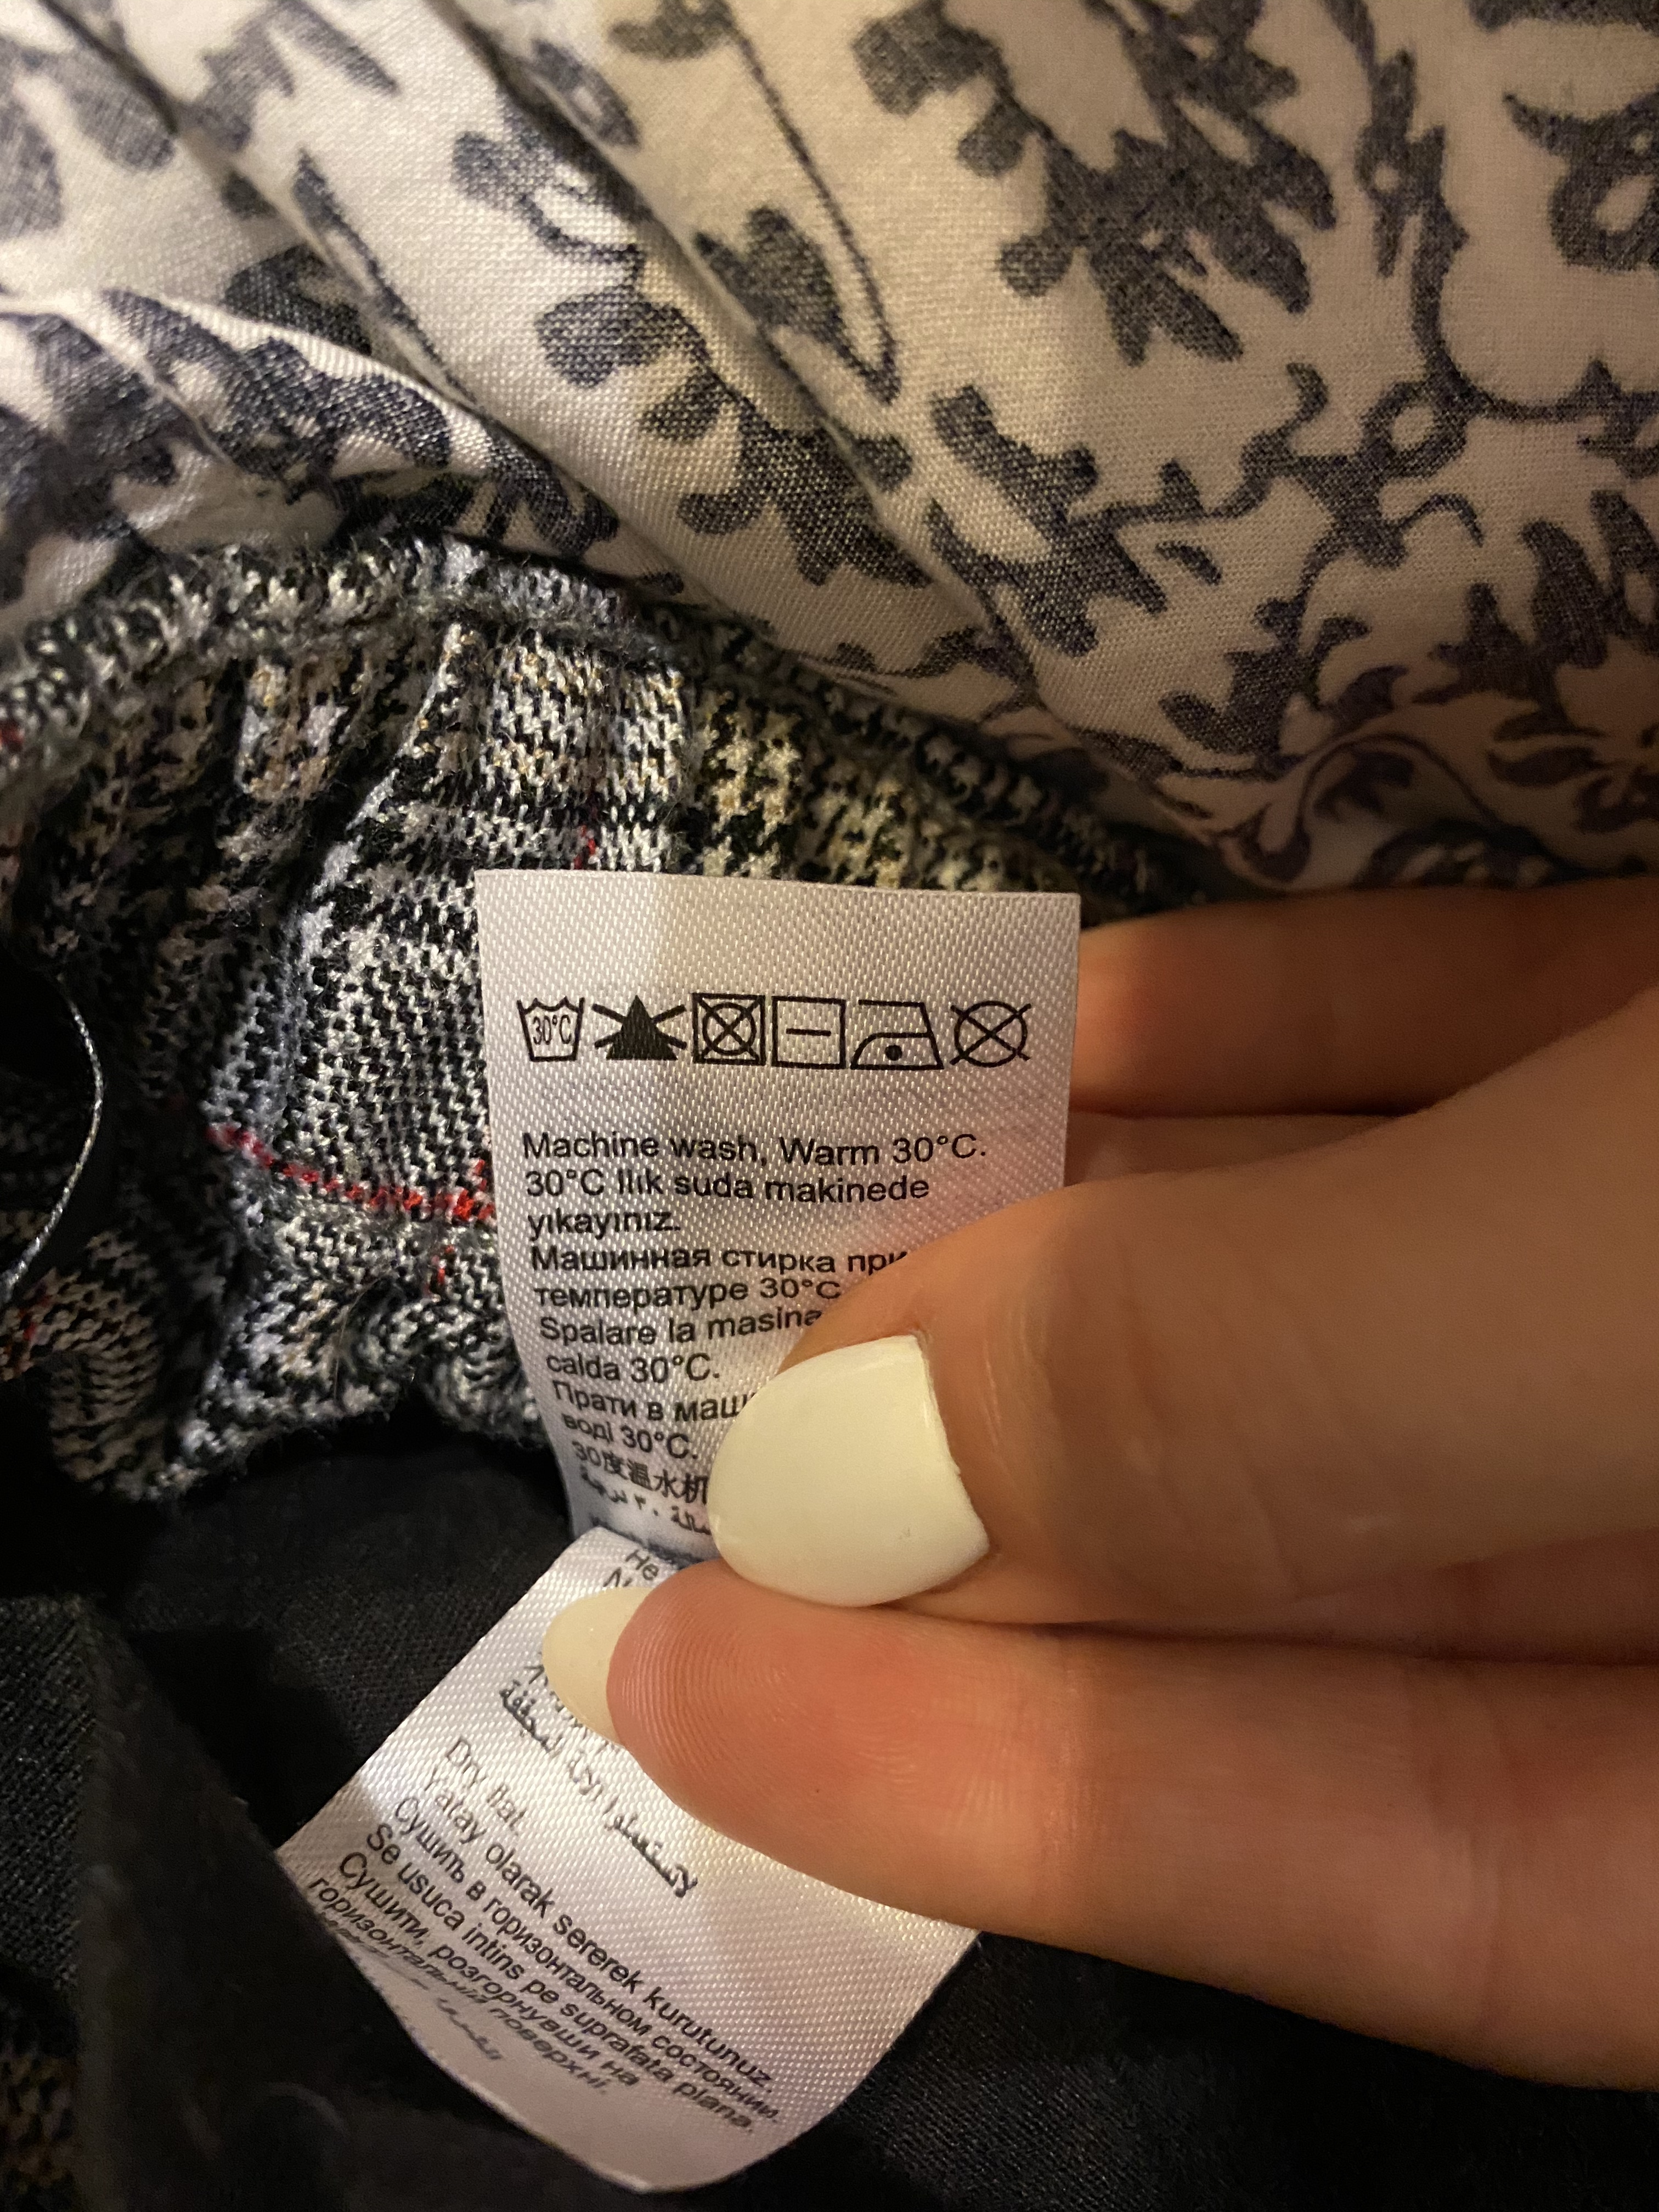do_not_bleach: (591, 995, 687, 1066)
do_not_dry_clean: (945, 996, 1042, 1071)
do_not_tumble_drying: (688, 989, 767, 1066)
dry_flat: (769, 993, 850, 1071)
ironing_at_low_temp: (850, 996, 943, 1071)
wash_at_or_below_30: (514, 993, 589, 1066)
